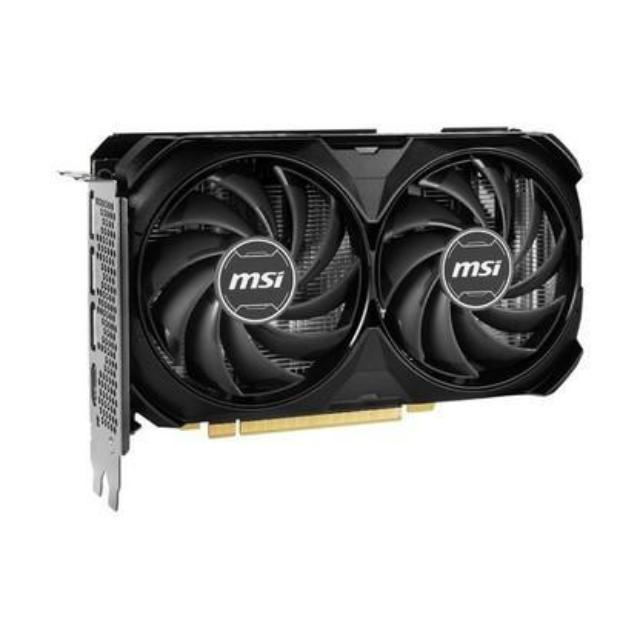GPU: (77, 121, 589, 439)
